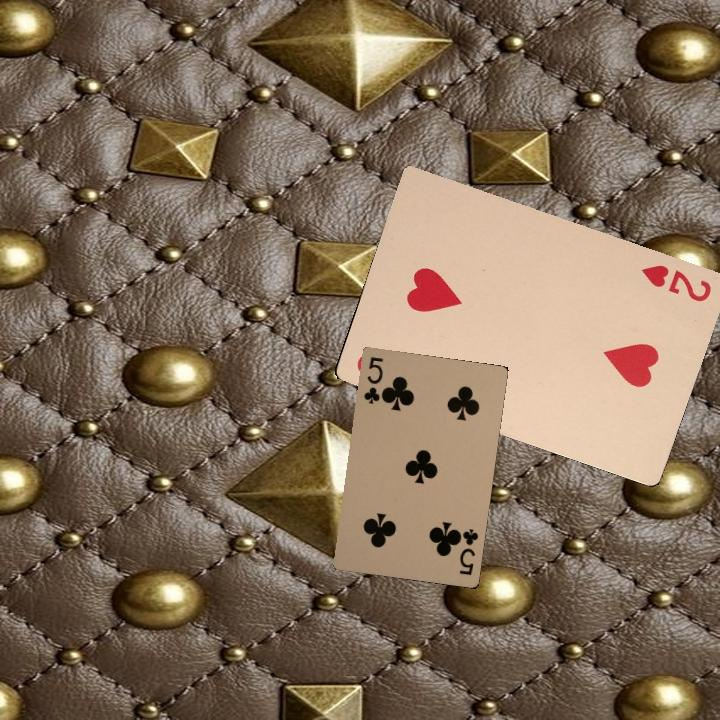2h: (637, 260, 714, 305)
5c: (454, 525, 481, 578), (360, 353, 386, 406)
